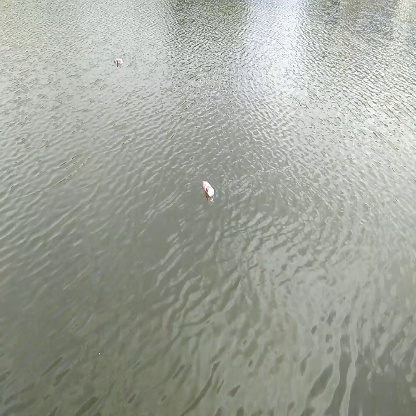bottle: (197, 176, 218, 202)
